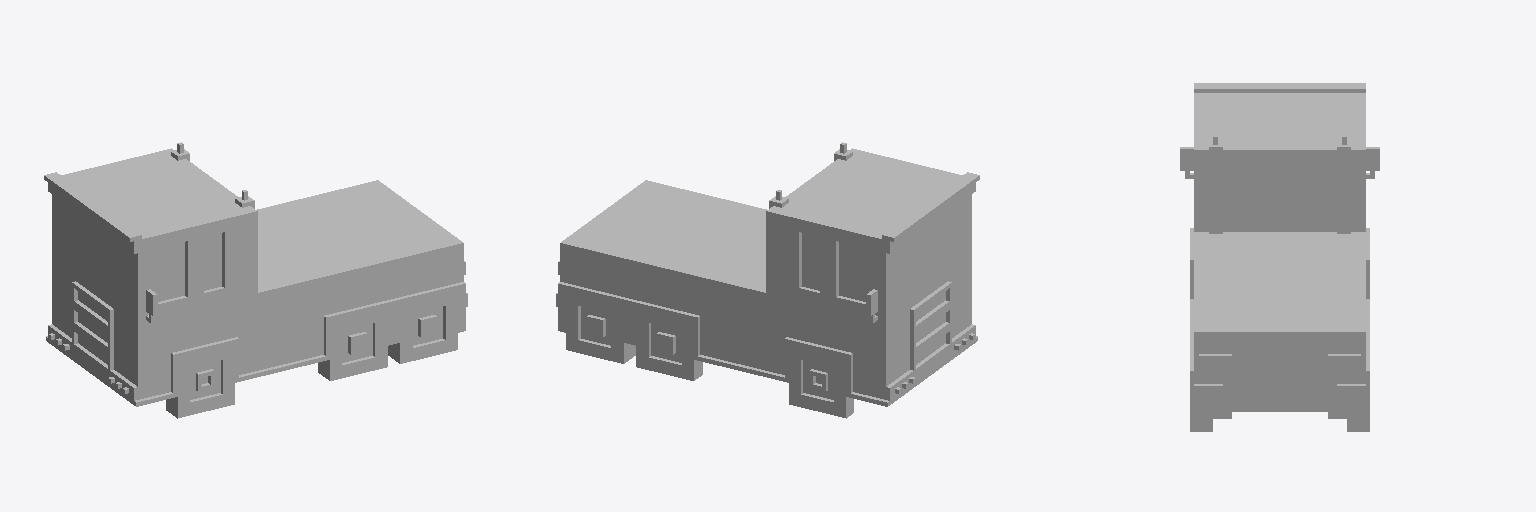
The model's file is alll cars3-148.obj.
3 renders of one model, left to right at view 1: azimuth 30°, elevation 25°; view 2: azimuth 150°, elevation 25°; view 3: azimuth 270°, elevation 25°, orthographic.
Parts seen in each view (by area): view 1: object 1; view 2: object 1; view 3: object 1.
Boxes of the visible parts, box(x1,y1,x2,y2) form: object 1: box(44, 142, 467, 418); object 1: box(556, 142, 979, 418); object 1: box(1180, 83, 1379, 431).
Bounding box in the file's own units: 8.2 × 4.6 × 4.2.